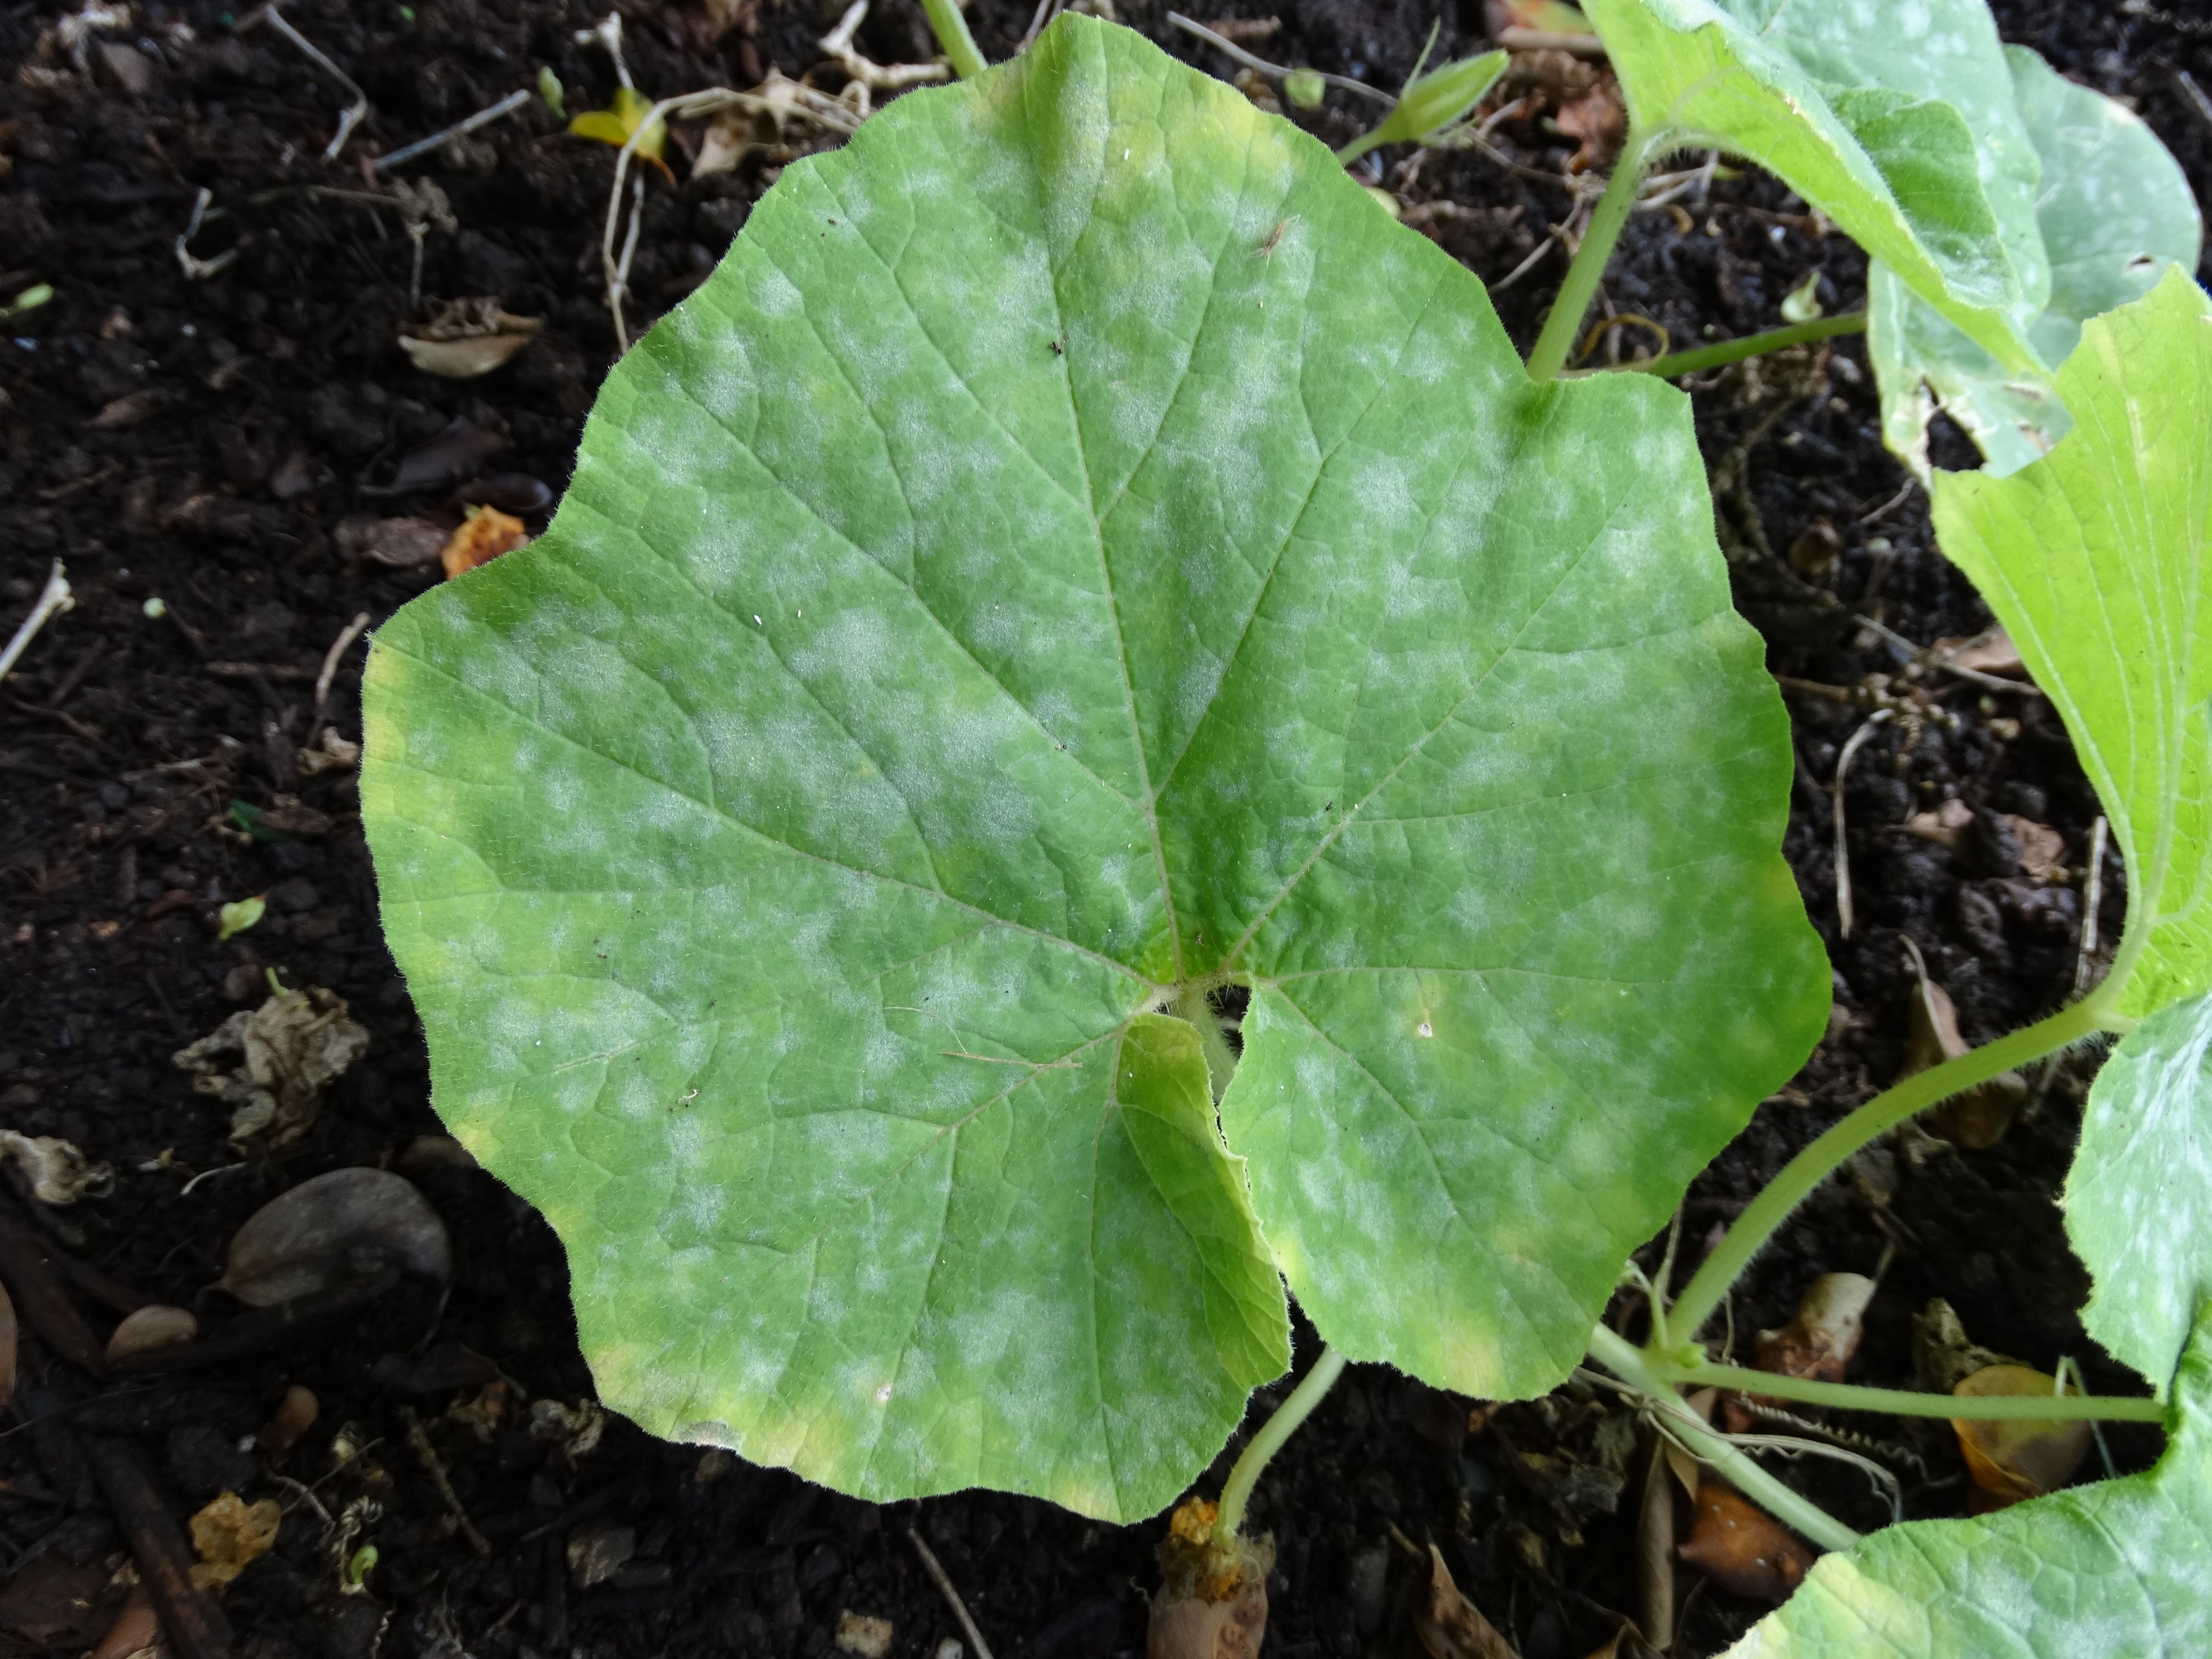Cucumber_PowderyMildew: (380, 98, 1770, 1398)
